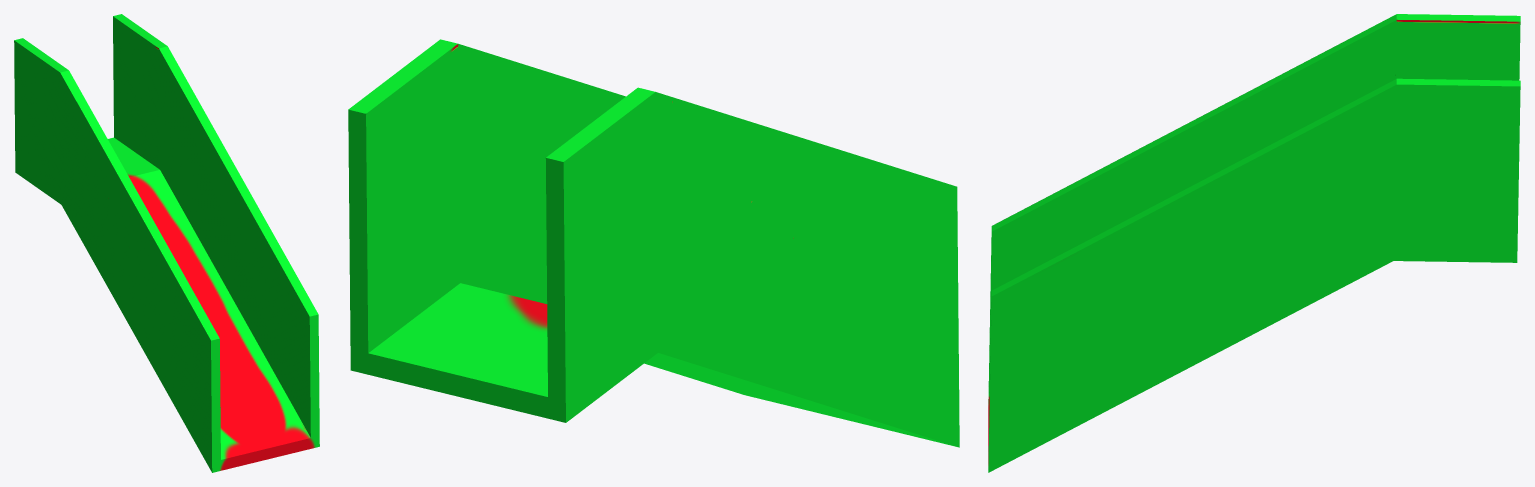
Rendered from runninghill-basic-level.glb.
The picture shows the model from 3 angles, left to right: view 1: azimuth 30°, elevation 25°; view 2: azimuth 150°, elevation 25°; view 3: azimuth 270°, elevation 25°; orthographic projection. The views are drawn at different scales.
Visible parts, largest first — view 1: levelmesh-col; view 2: levelmesh-col; view 3: levelmesh-col.
Boxes of the visible parts, x1=… form: levelmesh-col: x1=14, y1=14, x2=319, y2=472; levelmesh-col: x1=348, y1=39, x2=959, y2=447; levelmesh-col: x1=988, y1=14, x2=1520, y2=472.
Bounding box in the file's own units: 16.19 × 41.56 × 51.6.
Materials: 1 (1 with a texture image).
